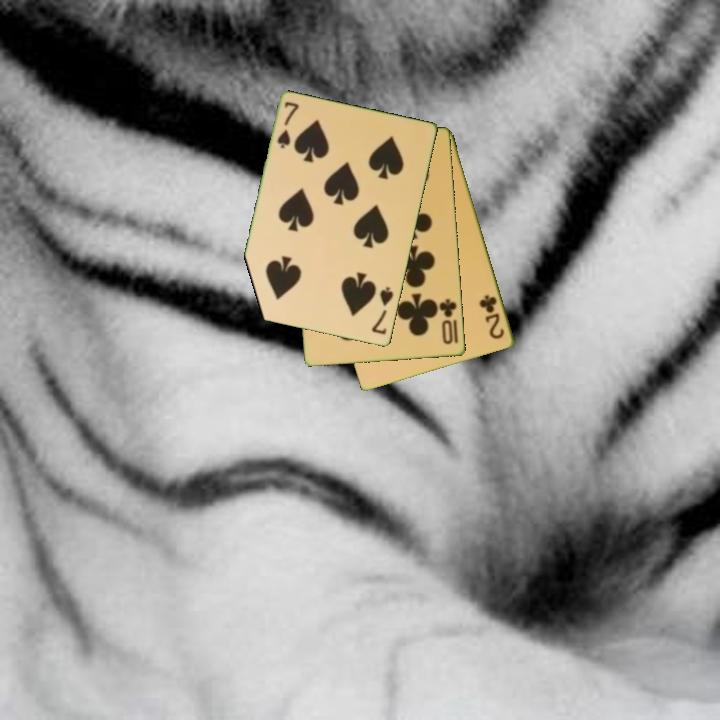10c: (436, 296, 460, 347)
2c: (476, 291, 508, 342)
7s: (368, 284, 397, 338), (274, 98, 302, 151)
